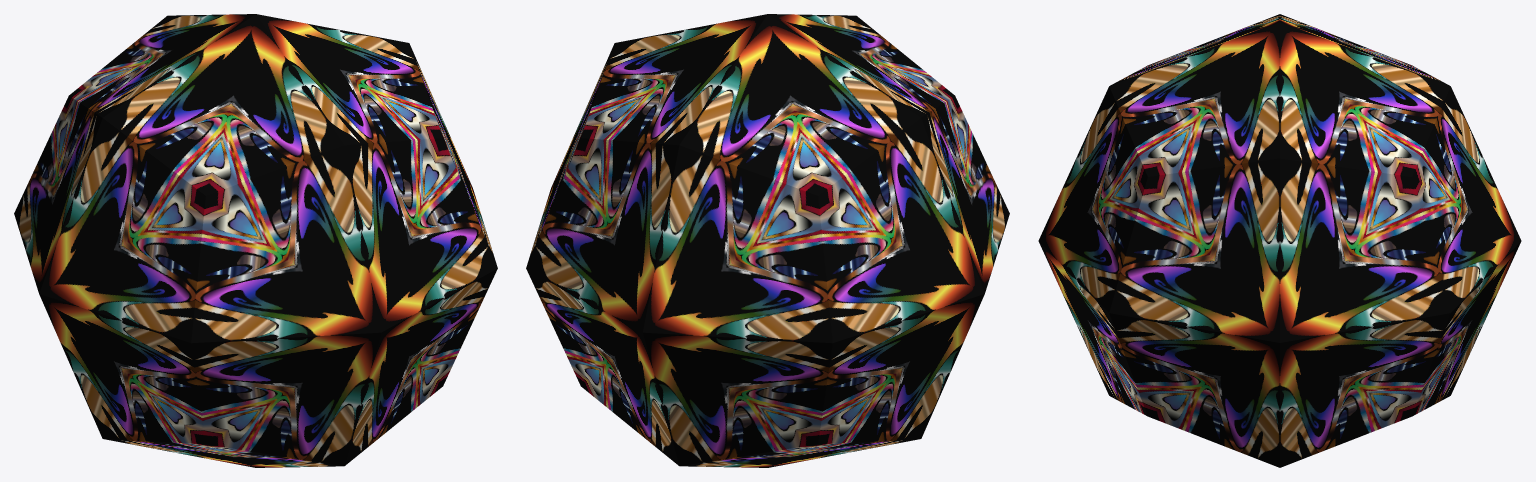
Rendered from DeltoidalIcositetrahedron9.obj.
The picture shows the model from 3 angles, left to right: view 1: azimuth 30°, elevation 25°; view 2: azimuth 150°, elevation 25°; view 3: azimuth 270°, elevation 25°; orthographic projection. The views are drawn at different scales.
Size of the model in its own units: 2.83 by 2.83 by 2.83.
Materials: 1 (1 with a texture image).
